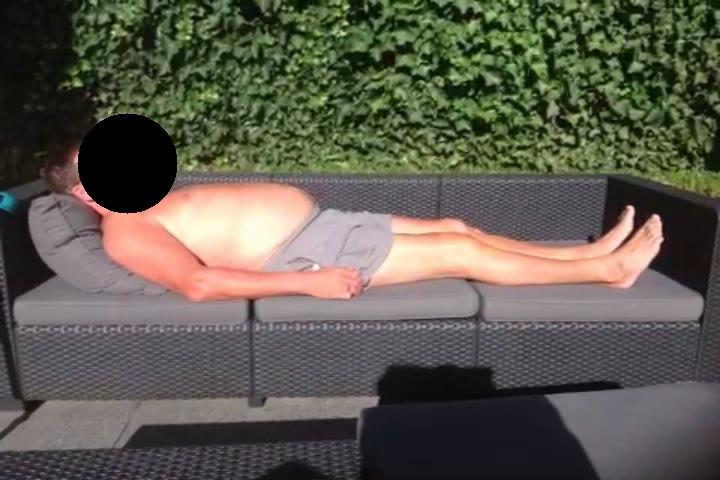lower_body: (299, 202, 666, 295)
